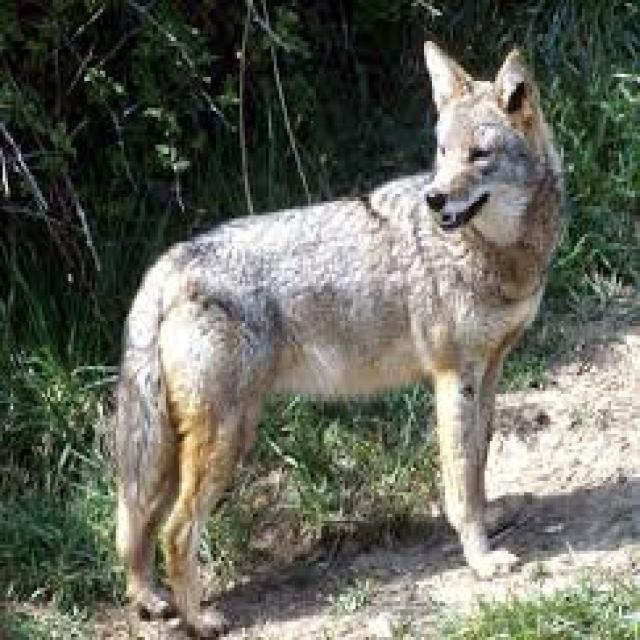Coyote: (101, 38, 564, 630)
